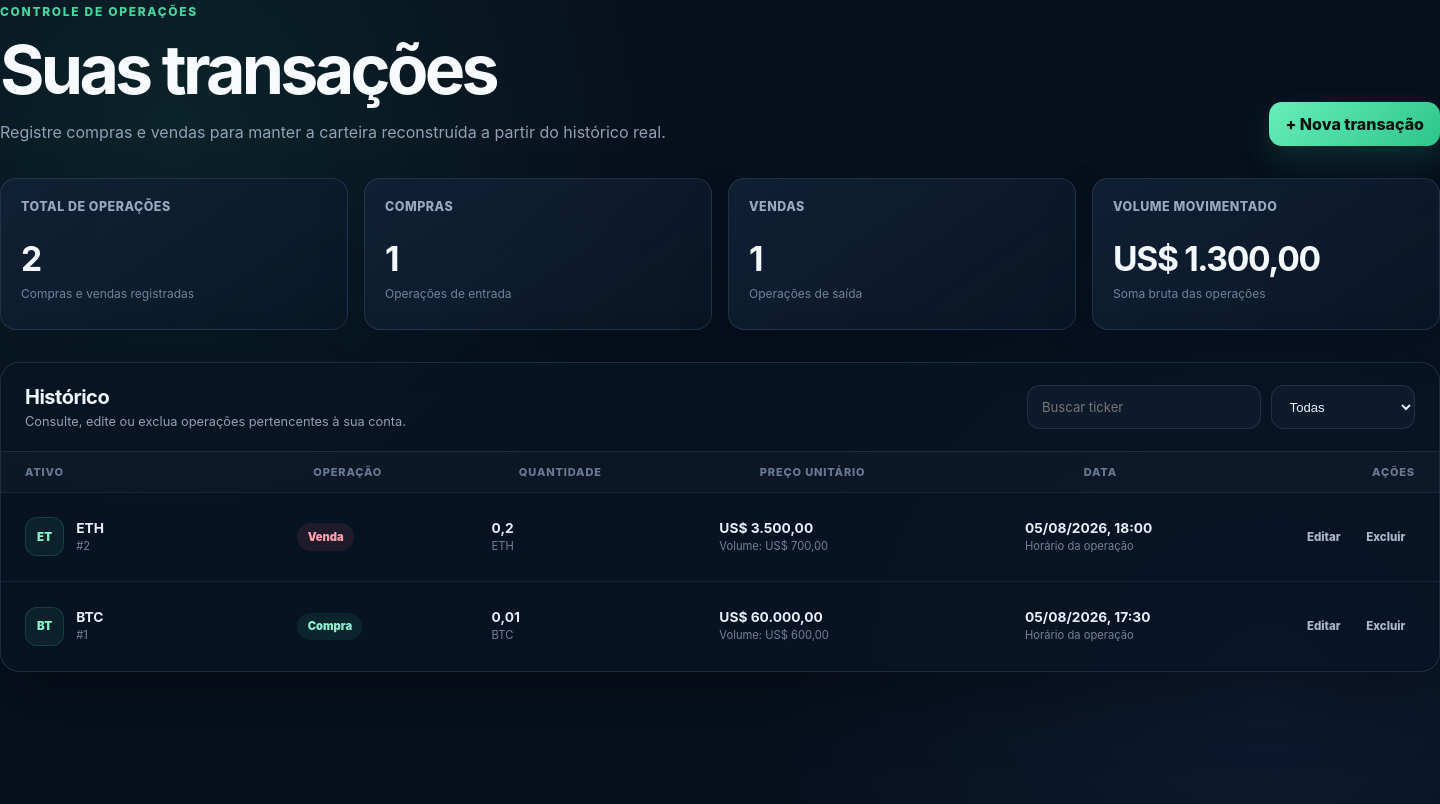
Test case: TransactionsPage › cadastra uma nova transação e atualiza o histórico
Expected: the button with aria-label "Editar transação de BTC" is shown, [1297,612,1350,642]
Click the button "+ Nova transação" at (1355, 124), box [1269,102,1439,146]
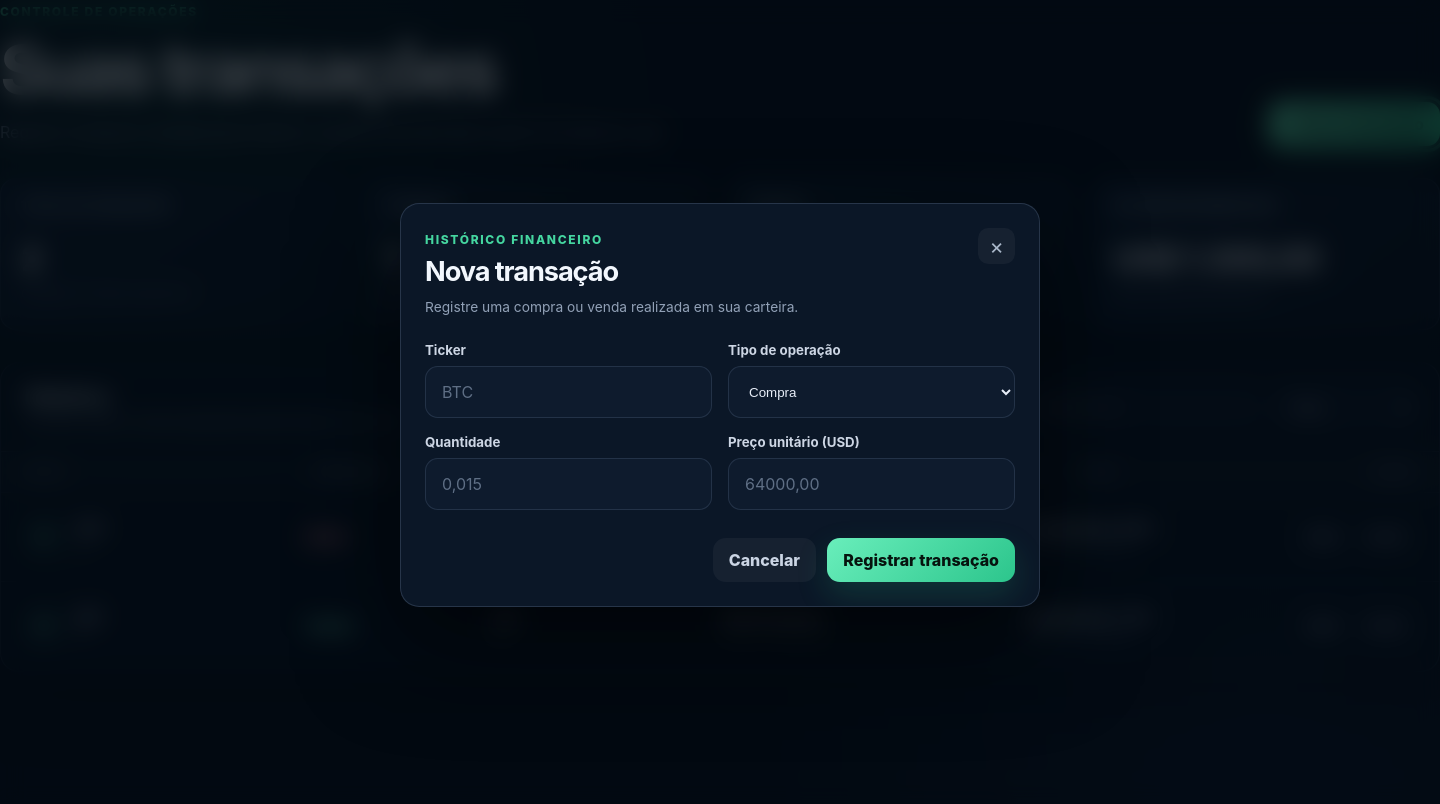
Type "sol" into the field labelled "Ticker" at (568, 392), box [425,366,712,418]
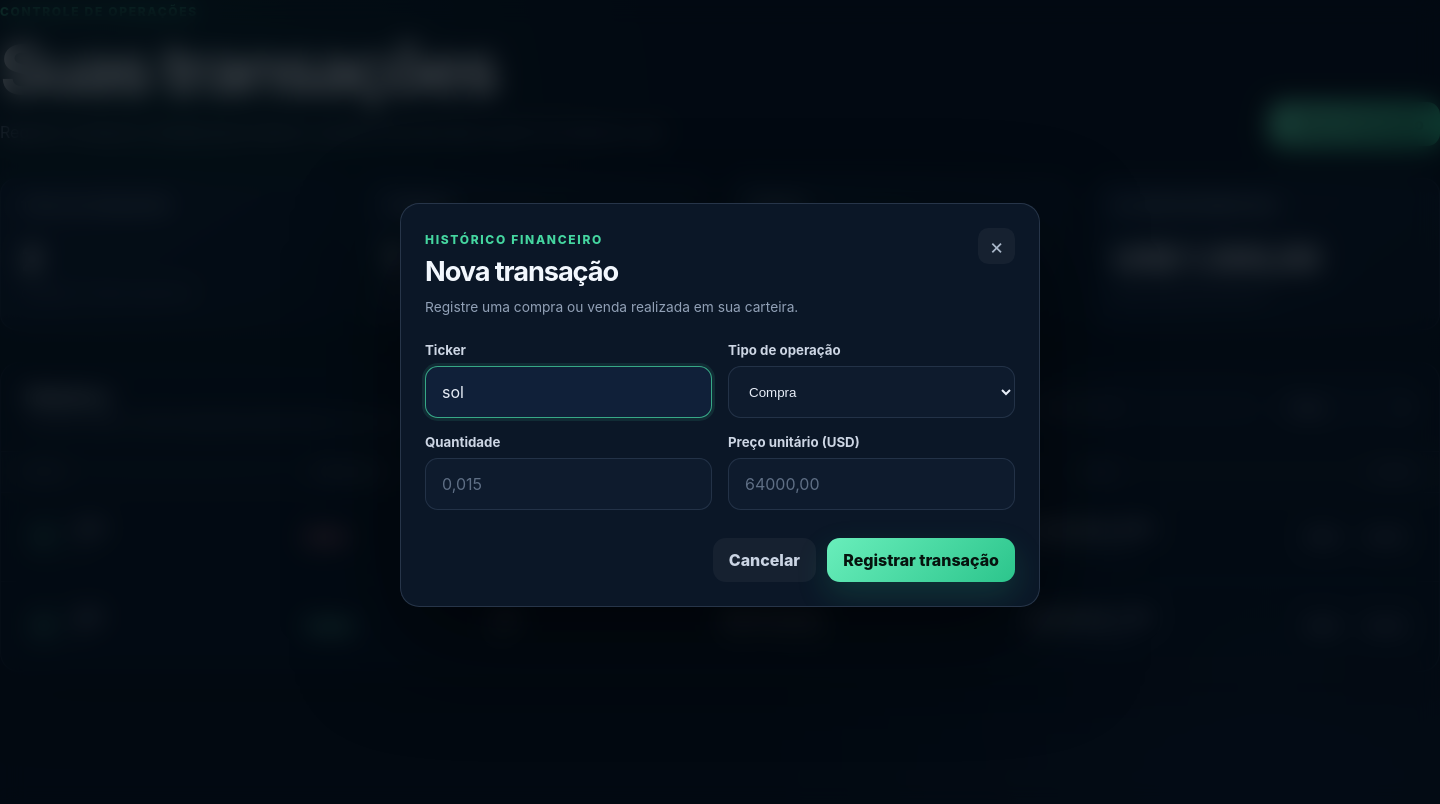
Type "2" into the number field labelled "Quantidade" at (568, 484), box [425,458,712,510]
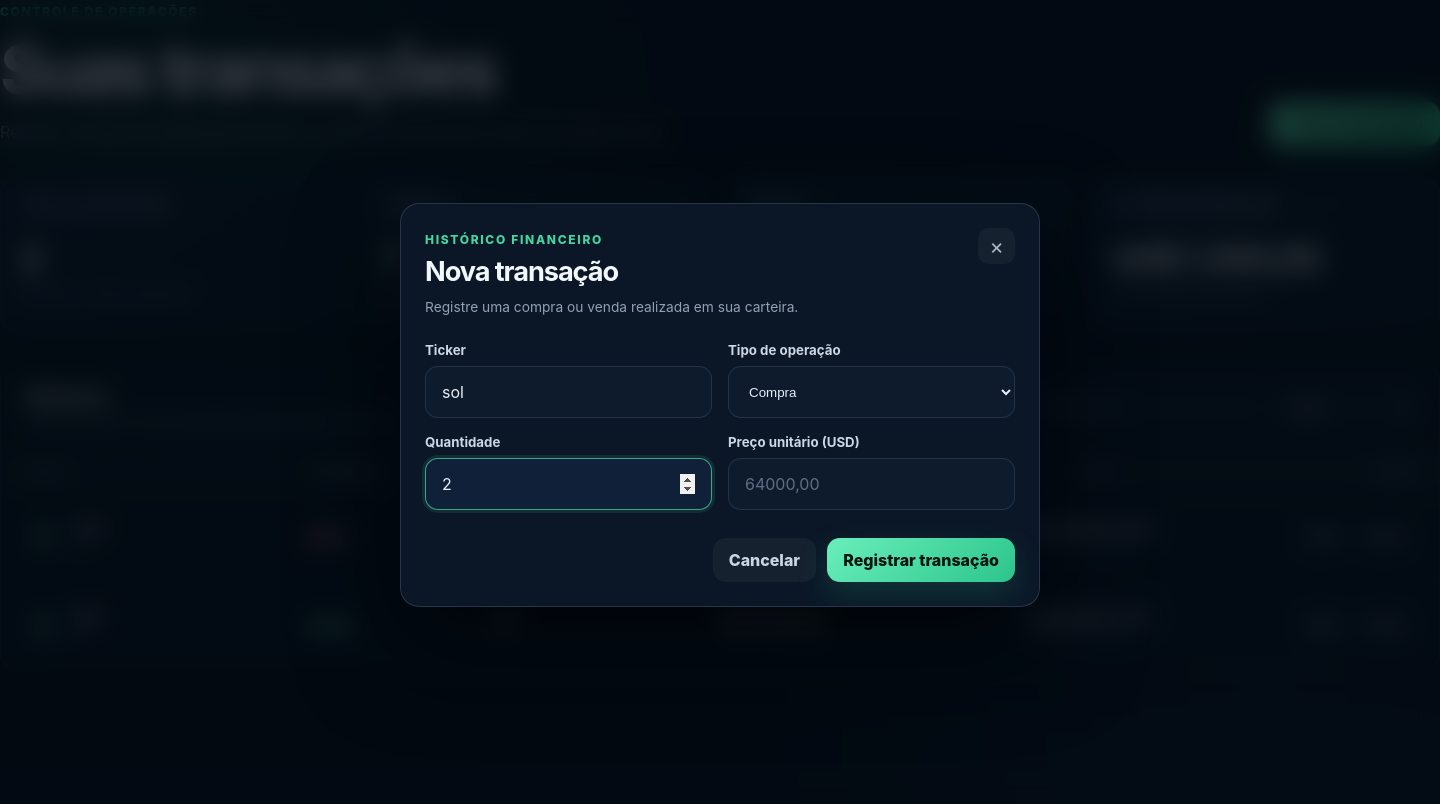
Type "150" into the number field labelled "Preço unitário (USD)" at (872, 484), box [728,458,1015,510]
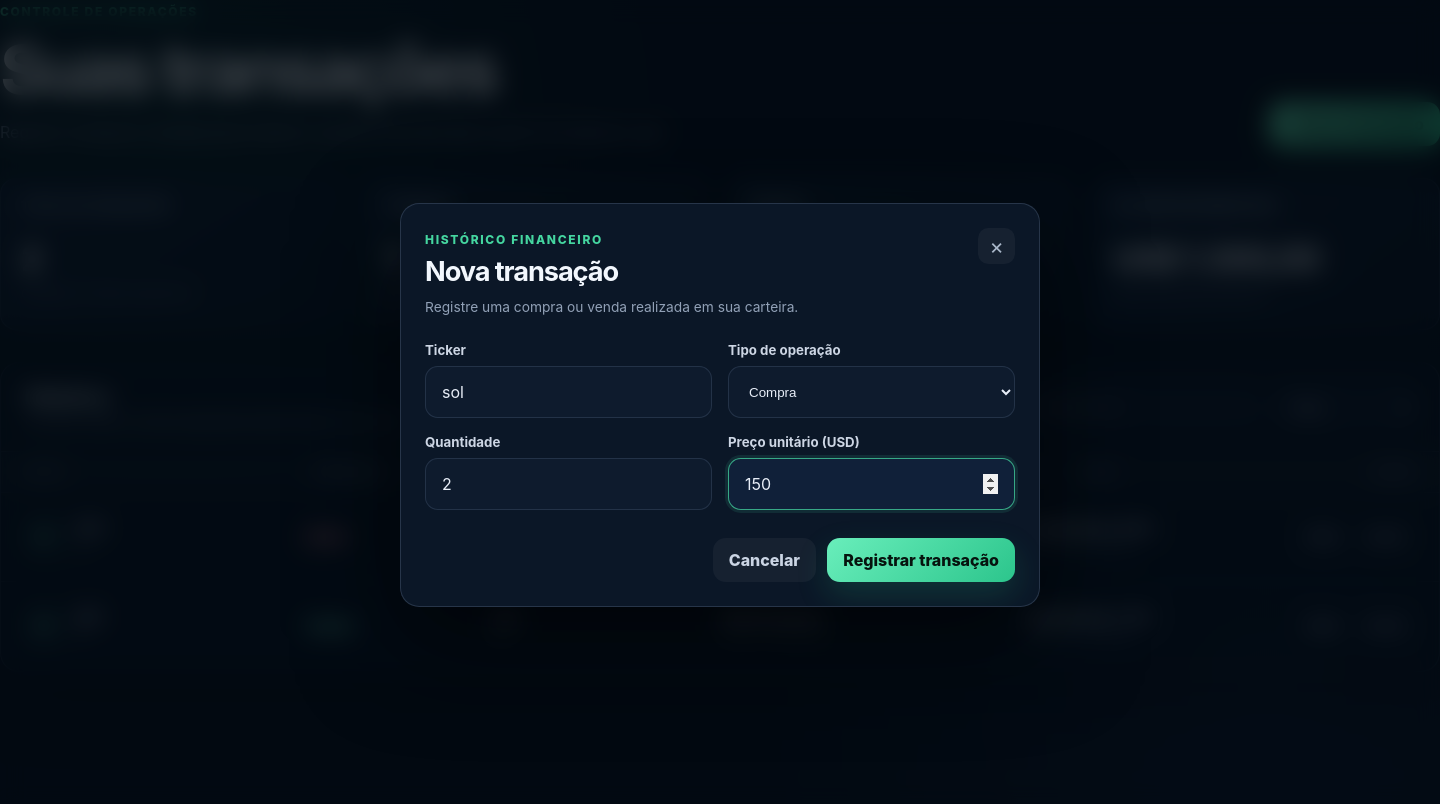
Click the button "Registrar transação" at (921, 560), box [827,538,1015,582]
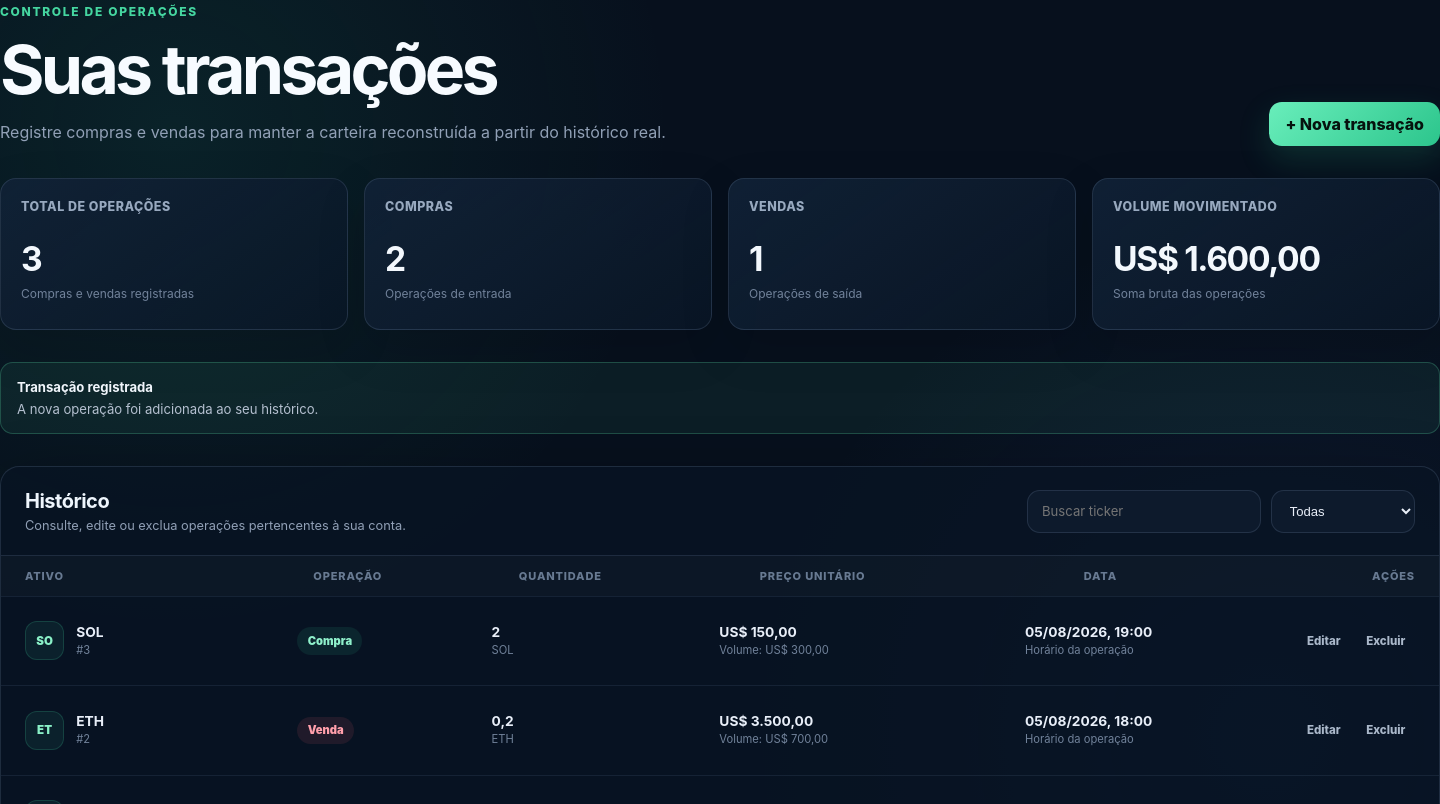
Expected: the text "Transação registrada" is shown, [17,379,153,395]
Expected: the button with aria-label "Editar transação de SOL" is shown, [1297,626,1350,656]
